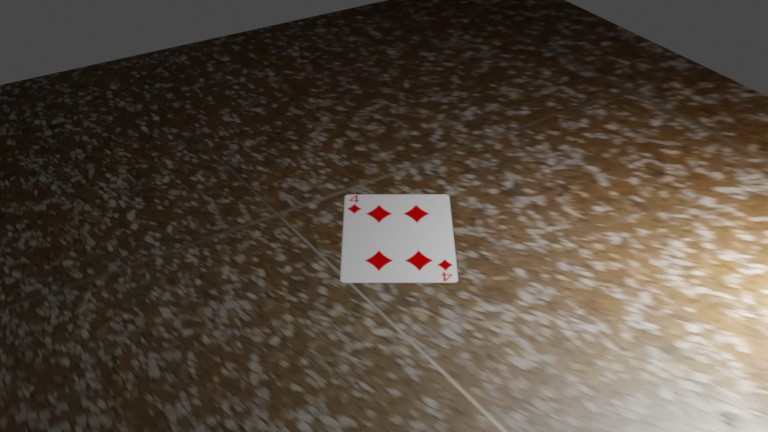4_of_diamonds: (434, 259, 458, 281), (345, 196, 365, 215)
